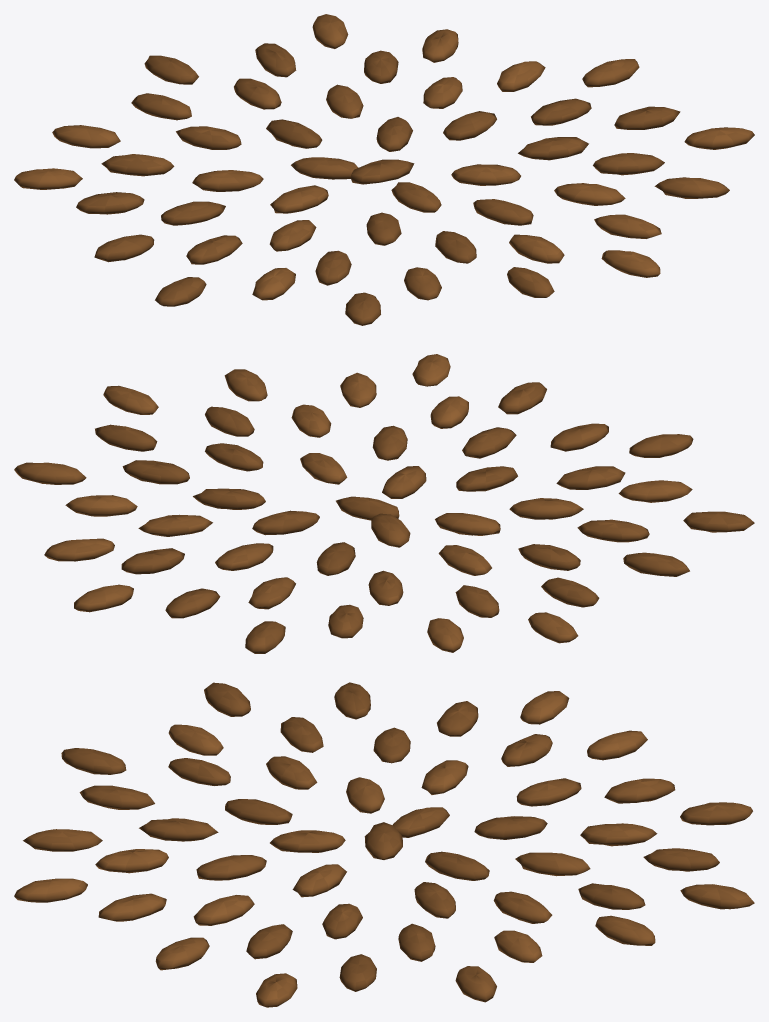
The model's file is Flaxseed.glb.
3 renders of one model, top to bottom at view 1: azimuth 30°, elevation 25°; view 2: azimuth 150°, elevation 25°; view 3: azimuth 270°, elevation 25°, orthographic. The views are drawn at different scales.
Visible parts, largest first — view 1: Flaxseed; view 2: Flaxseed; view 3: Flaxseed.
Part boxes in pixels (bbox=[...]): Flaxseed: bbox=[14, 14, 754, 325]; Flaxseed: bbox=[14, 354, 754, 653]; Flaxseed: bbox=[14, 682, 754, 1007].
Size of what is drawn, in the model's own units: 0.0589 by 0.00153 by 0.0573.
